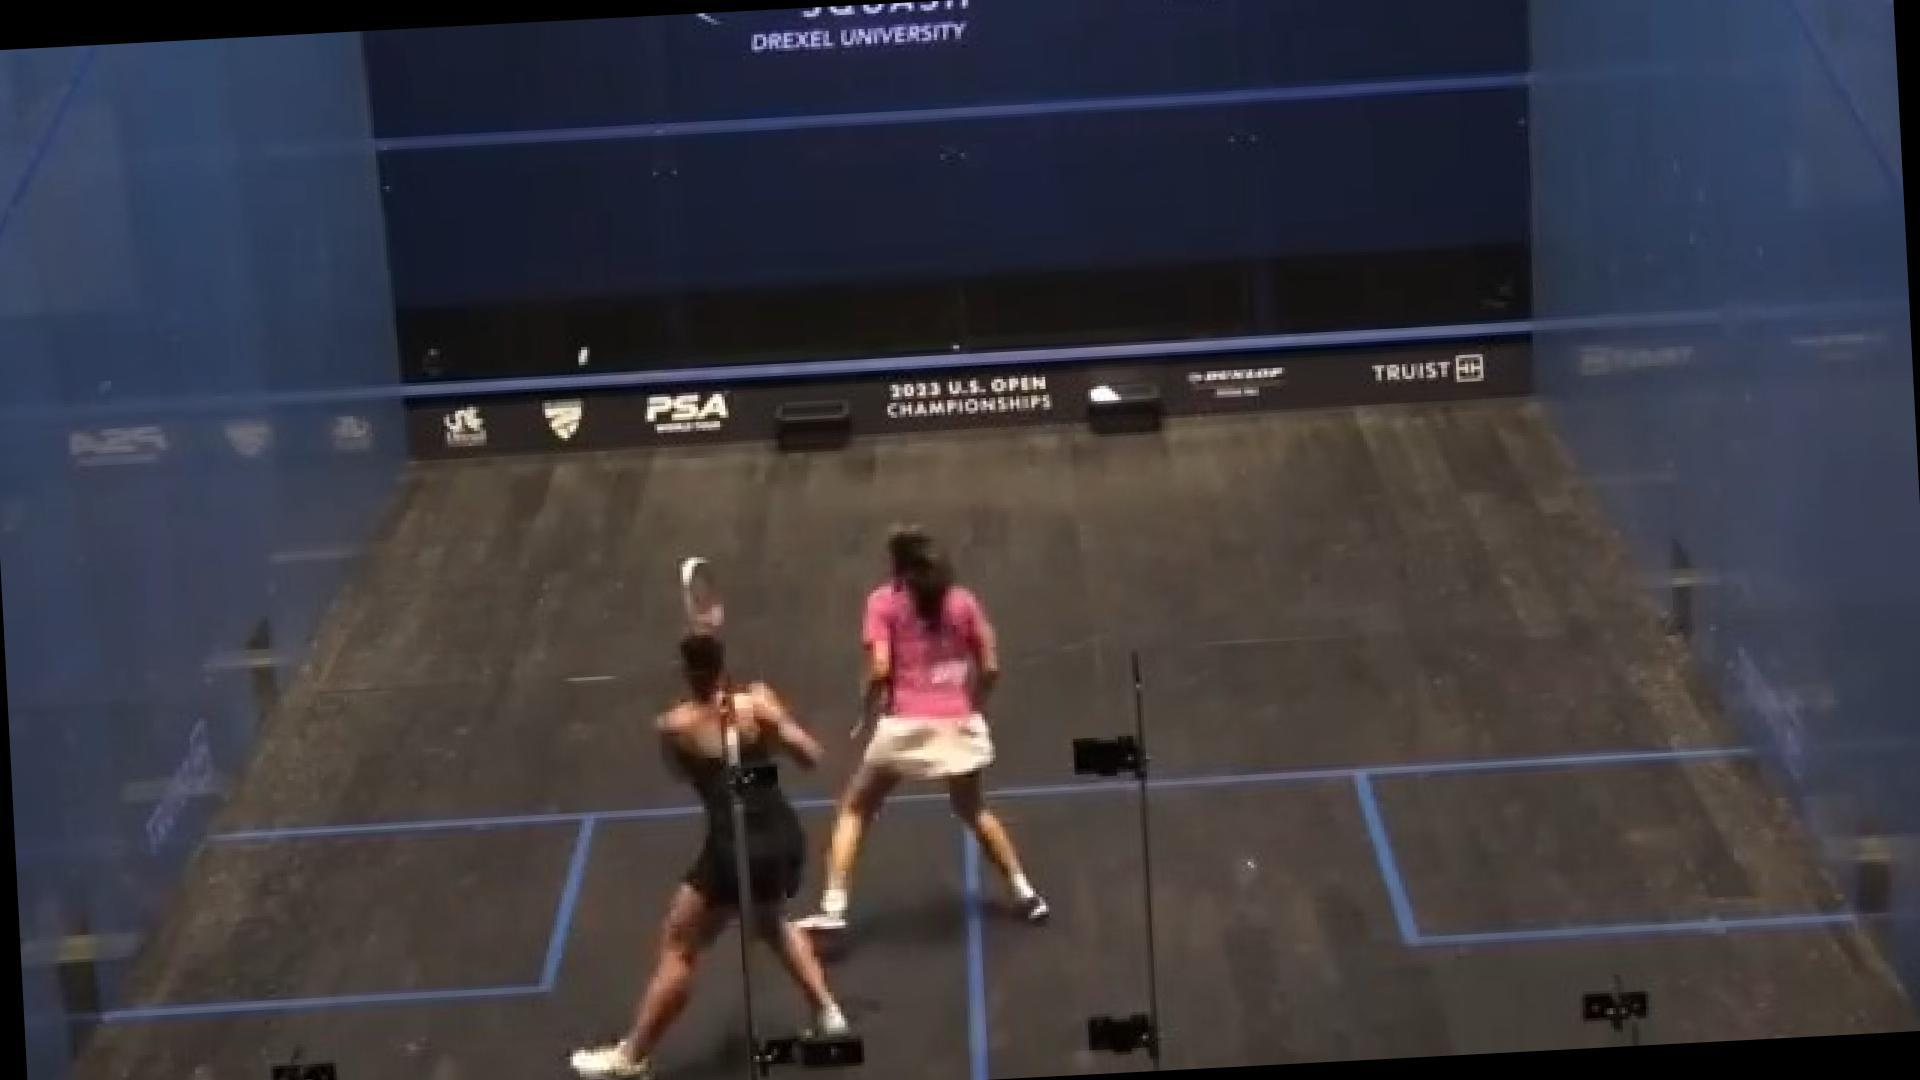Squash-Ball: (531, 327, 628, 389)
